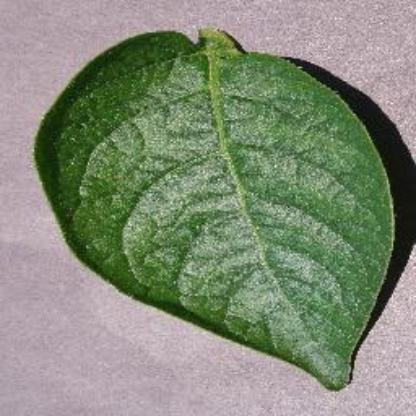Healthy-plant: (30, 17, 404, 391)
